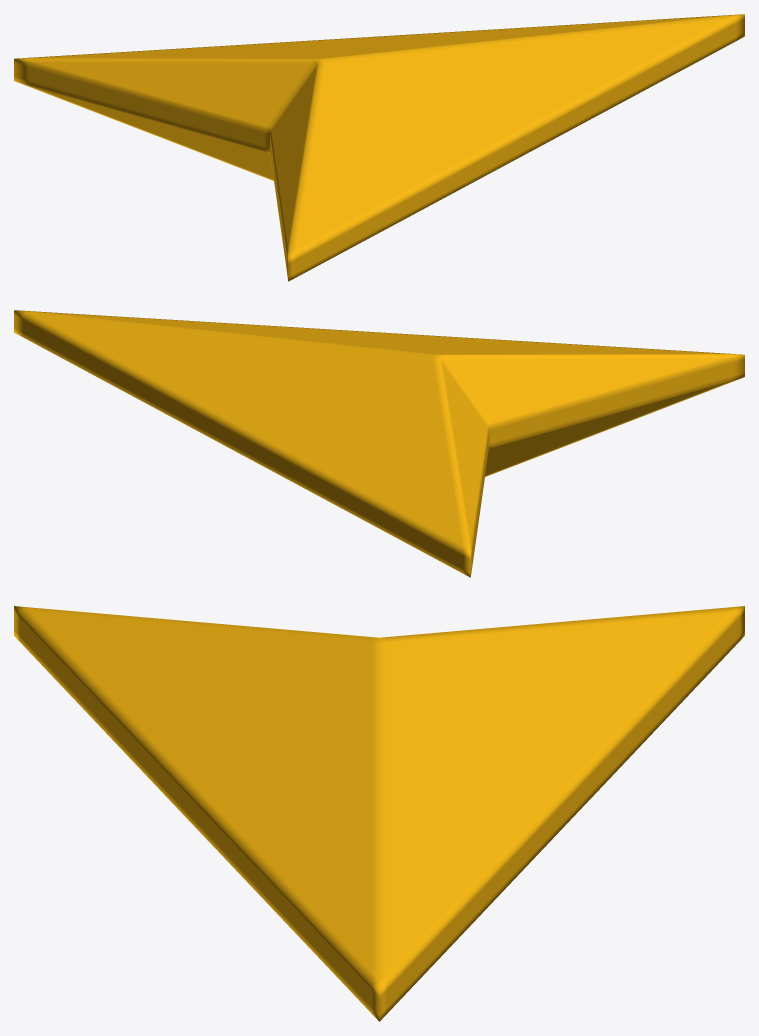
File: GPS_Navigation_Arrow.obj
3 renders of one model, top to bottom at view 1: azimuth 30°, elevation 25°; view 2: azimuth 150°, elevation 25°; view 3: azimuth 270°, elevation 25°, orthographic. The views are drawn at different scales.
Parts seen in each view (by area): view 1: arrow; view 2: arrow; view 3: arrow.
Boxes of the visible parts, left/top/right/bottom form: arrow: left=14, top=14, right=744, bottom=281; arrow: left=14, top=310, right=744, bottom=577; arrow: left=14, top=606, right=744, bottom=1021.
Size of the model in its own units: 50 by 11.23 by 40.
1 material, 1 textured.
